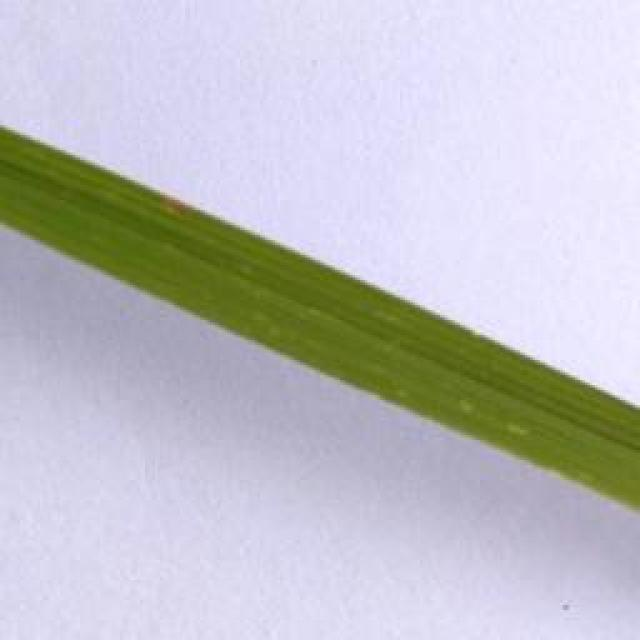Brown_Spot: (153, 185, 191, 222)
